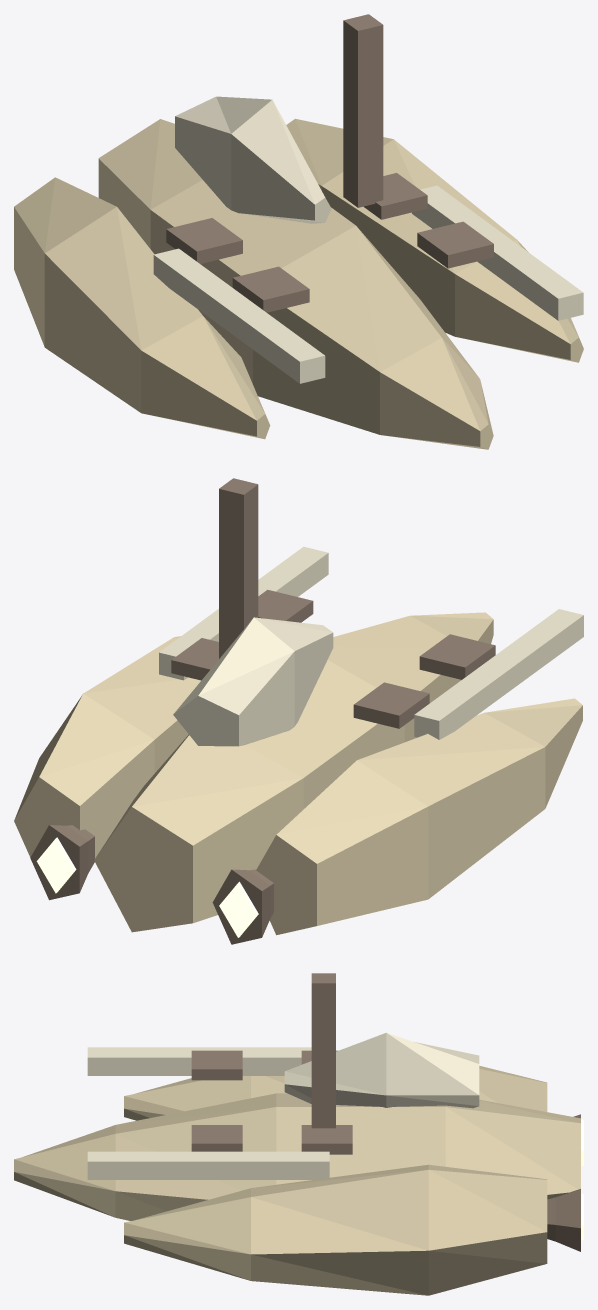
3 views of the same model, one above another, from view 1: azimuth 30°, elevation 25°; view 2: azimuth 150°, elevation 25°; view 3: azimuth 270°, elevation 25° (orthographic). The views are drawn at different scales.
Size of the model in its own units: 7.83 by 6.35 by 11.31.
